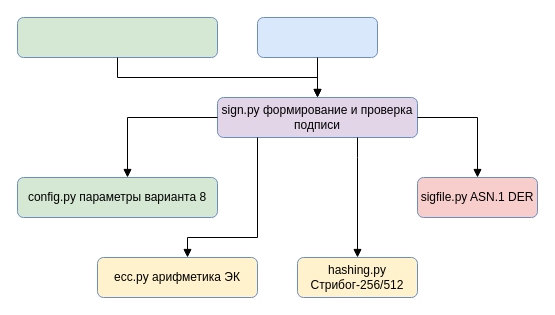
Some shapes in this 555 by 315 pixel diagram are drawn without their labels. The shapes that lost their labels are listed below. From the top down, each one's centre as x and y in pixels, then its label:
At pixel 117 37: "tests + report generator проверка VALID/INVALID".
At pixel 317 37: "main.py CLI sign / verify".
